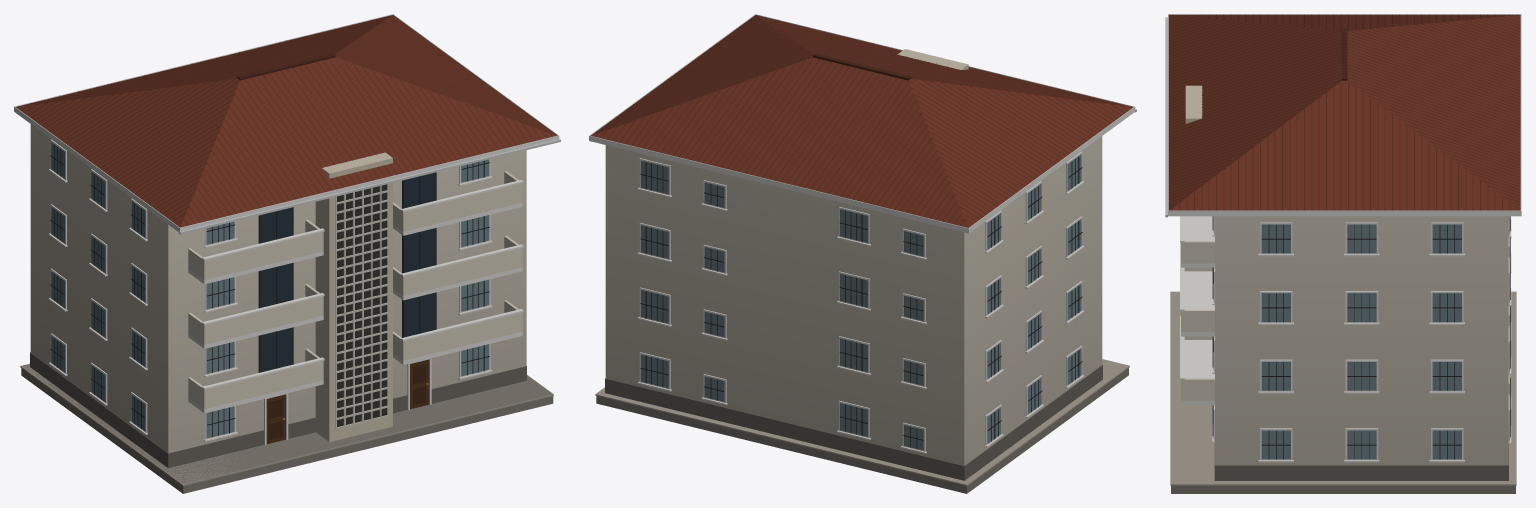
File: ns_flats4.glb
The picture shows the model from 3 angles, left to right: view 1: azimuth 30°, elevation 25°; view 2: azimuth 150°, elevation 25°; view 3: azimuth 270°, elevation 25°; orthographic projection. The views are drawn at different scales.
Visible parts, largest first — view 1: ns_flats4; view 2: ns_flats4; view 3: ns_flats4.
Boxes of the visible parts, box(x1,y1,x2,y2) form: ns_flats4: box(14, 14, 560, 493); ns_flats4: box(589, 14, 1136, 493); ns_flats4: box(1165, 14, 1521, 493).
Bounding box in the file's own units: 19.12 × 15.53 × 14.56.
